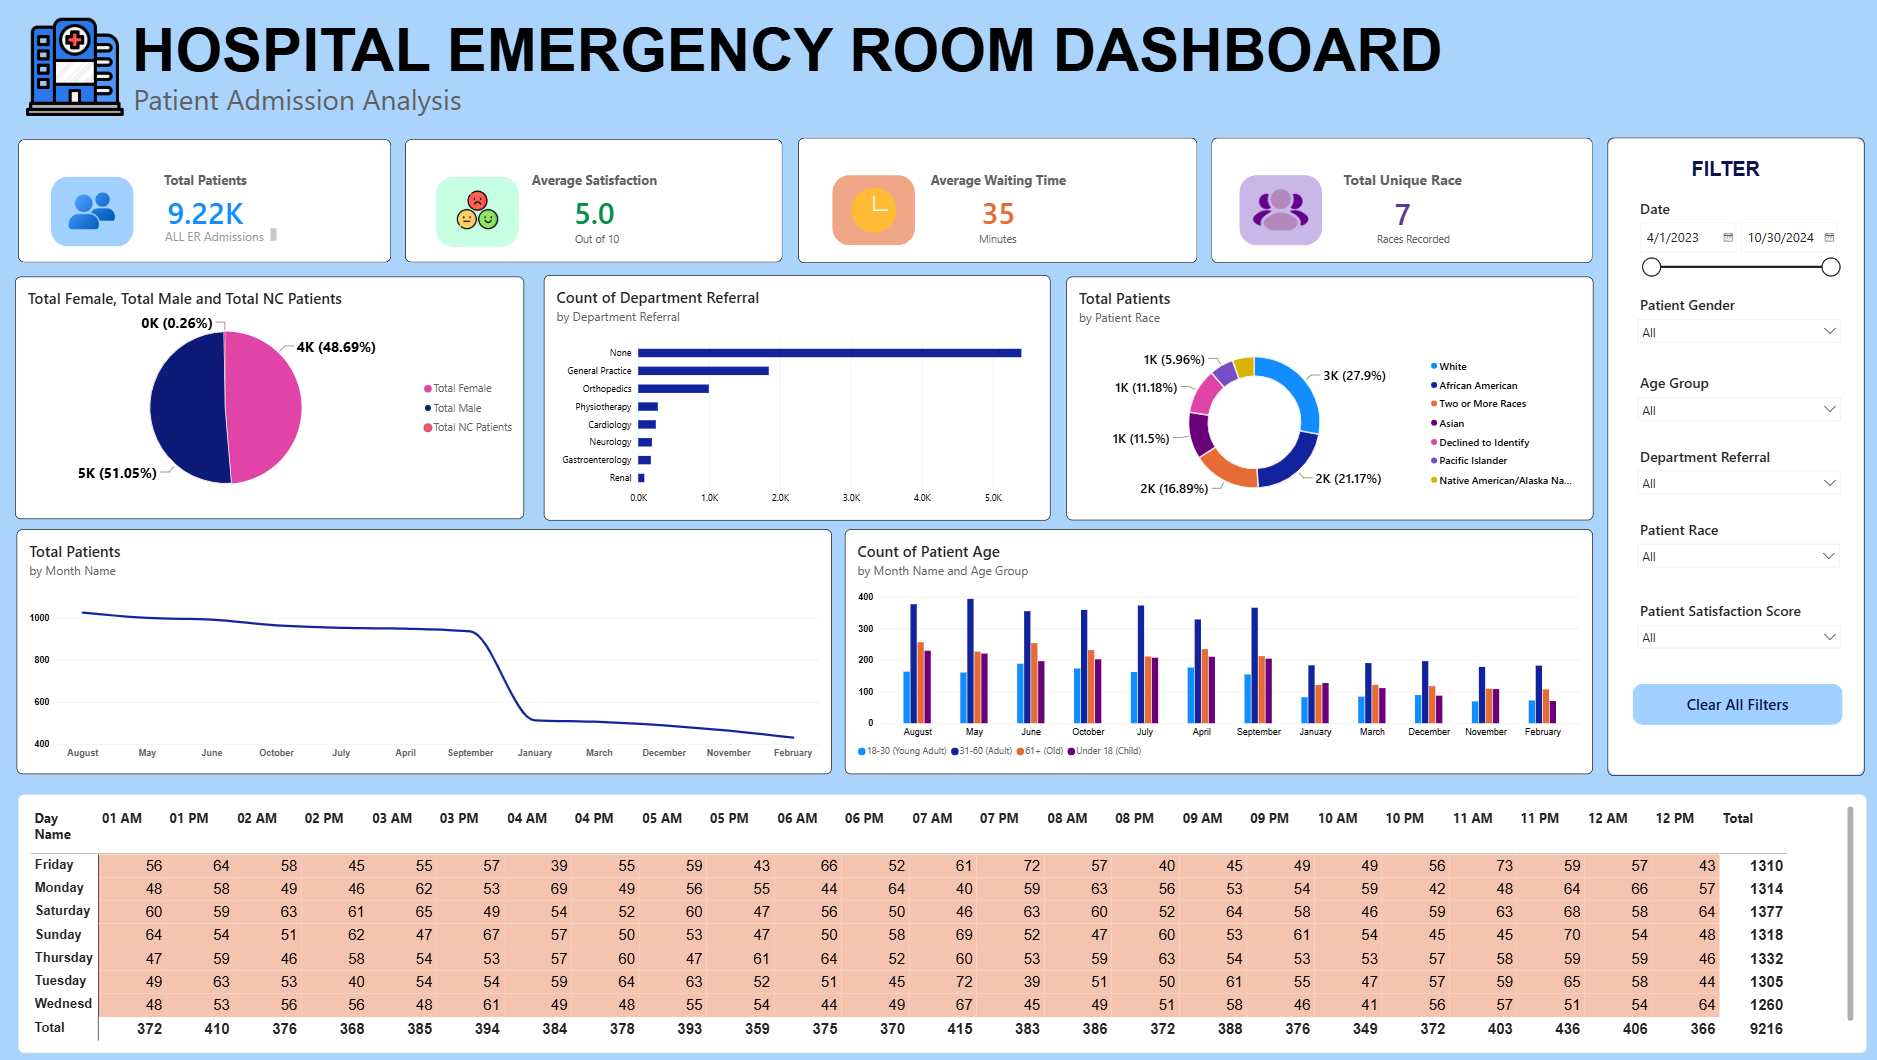

Layout of this report page (visuals, bound fields, positions):
{"tool":"powerbi","page":{"name":"Page 1","canvas":[2560,1440],"ordinal":0},"visuals":[{"type":"cardVisual","fields":{"Data":["Hospital ER Data.Average Waiting Time"]},"box":[1101.4,197.1,532.9,167.1],"z":0},{"type":"cardVisual","fields":{"Data":["dCalendar ER.Total Patients"]},"box":[61.4,198.6,497.1,164.3],"z":0,"group":"g1"},{"type":"group","id":"g1","title":"Group 1","box":[61.4,198.6,497.1,164.3],"z":0,"group":"g2"},{"type":"cardVisual","fields":{"Data":["Hospital ER Data.Average Satisfaction"]},"box":[578.6,198.6,503.5,164.6],"z":0,"group":"g3"},{"type":"cardVisual","fields":{"Data":["dCalendar ER.Total Patience Race"]},"box":[1652.9,197.1,508.6,167.1],"z":1000},{"type":"image","box":[117.4,262.6,83.3,61.7],"z":1000,"group":"g2"},{"type":"lineChart","fields":{"Category":["dCalendar ER.Month Name"],"Y":["dCalendar ER.Total Patients"]},"box":[60,720,1086.7,326.7],"z":2000},{"type":"barChart","fields":{"Category":["Hospital ER Data.Department Referral"],"Y":["CountNonNull(Hospital ER Data.Department Referral)"]},"box":[762.5,380,675,327.5],"z":3000},{"type":"clusteredColumnChart","fields":{"Category":["dCalendar ER.Month Name"],"Series":["Hospital ER Data.Age Group"],"Y":["CountNonNull(Hospital ER Data.Patient Age)"]},"box":[1165,720,996.7,326.7],"z":4000},{"type":"pieChart","fields":{"Y":["Hospital ER Data.Total Female","Hospital ER Data.Total Male","Hospital ER Data.Total NC Patients"]},"box":[58.3,383.3,678.3,323.3],"z":5000},{"type":"pivotTable","fields":{"Columns":["Hospital ER Data.Hour"],"Rows":["dCalendar ER.Day Name"],"Values":["dCalendar ER.Total Patients"]},"box":[61.7,1073.3,2463.3,345],"z":6000},{"type":"donutChart","fields":{"Category":["Hospital ER Data.Patient Race"],"Y":["dCalendar ER.Total Patients"]},"box":[1460,382.5,702.5,325],"z":7000},{"type":"group","id":"g2","title":"Group 2","box":[61.4,198.6,497.1,164.3],"z":8000},{"type":"group","id":"g3","title":"Group 3","box":[578.6,198.6,503.5,164.6],"z":9000,"group":"g4"},{"type":"shape","box":[621,247.6,110,93.3],"z":9000,"group":"g3"},{"type":"shape","box":[1146.7,248.3,110,93.3],"z":9000},{"type":"shape","box":[2180,197.5,342.5,850],"z":10000},{"type":"shape","box":[104,247.6,110,93],"z":10000,"group":"g1"},{"type":"textbox","box":[2180,225,315,52.5],"z":11000},{"type":"actionButton","box":[2213.3,925,280,55],"z":12000},{"type":"slicer","fields":{"Values":["Hospital ER Data.Age Group"]},"box":[2215,511.7,280,85],"z":13000},{"type":"slicer","fields":{"Values":["Hospital ER Data.Department Referral"]},"box":[2215,610,280,166.7],"z":14000},{"type":"slicer","fields":{"Values":["dCalendar ER.Date"]},"box":[2215.7,278.6,278.6,182.9],"z":15000},{"type":"slicer","fields":{"Values":["Hospital ER Data.Patient Gender"]},"box":[2215,407.5,280,165],"z":16000},{"type":"slicer","fields":{"Values":["Hospital ER Data.Patient Race"]},"box":[2216.7,706.7,278.3,165],"z":17000},{"type":"slicer","fields":{"Values":["Hospital ER Data.Patient Satisfaction Score"]},"box":[2215,815,280,165],"z":18000},{"type":"image","box":[639.3,264.3,73.3,55],"z":18001,"group":"g4"},{"type":"group","id":"g4","title":"Group 4","box":[578.6,198.6,503.5,164.6],"z":19000},{"type":"image","box":[1163.3,265,78.3,60],"z":20000},{"type":"shape","box":[1690,248.3,110,93.3],"z":21000},{"type":"image","box":[1706.7,256.7,76.7,75],"z":21001},{"type":"textbox","box":[258.8,318.8,148.8,18.8],"z":21002},{"type":"textbox","box":[805,322.5,67.5,18.8],"z":21003},{"type":"textbox","box":[1342.5,321.2,67.5,18.8],"z":21004},{"type":"textbox","box":[1873.8,321.2,113.8,18.8],"z":21005},{"type":"textbox","box":[215,35,1775,100],"z":21006},{"type":"image","box":[60,35,155,135],"z":21007},{"type":"textbox","box":[216.7,120,493.3,53.3],"z":21008}]}

Visuals, with their boxes in screenshot pixels (x1, y1, x2, y2), scaled from the page's 2560x1440 canvas onto the 1877x1060 screenshot:
cardVisual - Hospital ER Data.Average Waiting Time: {"left": 808, "top": 145, "right": 1198, "bottom": 268}
cardVisual - dCalendar ER.Total Patients: {"left": 45, "top": 146, "right": 409, "bottom": 267}
"Group 1" group: {"left": 45, "top": 146, "right": 409, "bottom": 267}
cardVisual - Hospital ER Data.Average Satisfaction: {"left": 424, "top": 146, "right": 793, "bottom": 267}
cardVisual - dCalendar ER.Total Patience Race: {"left": 1212, "top": 145, "right": 1585, "bottom": 268}
image: {"left": 86, "top": 193, "right": 147, "bottom": 239}
lineChart - dCalendar ER.Month Name x dCalendar ER.Total Patients: {"left": 44, "top": 530, "right": 841, "bottom": 770}
barChart - Hospital ER Data.Department Referral x CountNonNull(Hospital ER Data.Department Referral): {"left": 559, "top": 280, "right": 1054, "bottom": 521}
clusteredColumnChart - dCalendar ER.Month Name x Hospital ER Data.Age Group: {"left": 854, "top": 530, "right": 1585, "bottom": 770}
pieChart - Hospital ER Data.Total Female x Hospital ER Data.Total Male: {"left": 43, "top": 282, "right": 540, "bottom": 520}
pivotTable - Hospital ER Data.Hour x dCalendar ER.Day Name: {"left": 45, "top": 790, "right": 1851, "bottom": 1044}
donutChart - Hospital ER Data.Patient Race x dCalendar ER.Total Patients: {"left": 1070, "top": 282, "right": 1586, "bottom": 521}
"Group 2" group: {"left": 45, "top": 146, "right": 409, "bottom": 267}
"Group 3" group: {"left": 424, "top": 146, "right": 793, "bottom": 267}
shape: {"left": 455, "top": 182, "right": 536, "bottom": 251}
shape: {"left": 841, "top": 183, "right": 921, "bottom": 251}
shape: {"left": 1598, "top": 145, "right": 1850, "bottom": 771}
shape: {"left": 76, "top": 182, "right": 157, "bottom": 251}
textbox: {"left": 1598, "top": 166, "right": 1829, "bottom": 204}
actionButton: {"left": 1623, "top": 681, "right": 1828, "bottom": 721}
slicer - Hospital ER Data.Age Group: {"left": 1624, "top": 377, "right": 1829, "bottom": 439}
slicer - Hospital ER Data.Department Referral: {"left": 1624, "top": 449, "right": 1829, "bottom": 572}
slicer - dCalendar ER.Date: {"left": 1625, "top": 205, "right": 1829, "bottom": 340}
slicer - Hospital ER Data.Patient Gender: {"left": 1624, "top": 300, "right": 1829, "bottom": 421}
slicer - Hospital ER Data.Patient Race: {"left": 1625, "top": 520, "right": 1829, "bottom": 642}
slicer - Hospital ER Data.Patient Satisfaction Score: {"left": 1624, "top": 600, "right": 1829, "bottom": 721}
image: {"left": 469, "top": 195, "right": 522, "bottom": 235}
"Group 4" group: {"left": 424, "top": 146, "right": 793, "bottom": 267}
image: {"left": 853, "top": 195, "right": 910, "bottom": 239}
shape: {"left": 1239, "top": 183, "right": 1320, "bottom": 251}
image: {"left": 1251, "top": 189, "right": 1308, "bottom": 244}
textbox: {"left": 190, "top": 235, "right": 299, "bottom": 249}
textbox: {"left": 590, "top": 237, "right": 640, "bottom": 251}
textbox: {"left": 984, "top": 236, "right": 1034, "bottom": 250}
textbox: {"left": 1374, "top": 236, "right": 1457, "bottom": 250}
textbox: {"left": 158, "top": 26, "right": 1459, "bottom": 99}
image: {"left": 44, "top": 26, "right": 158, "bottom": 125}
textbox: {"left": 159, "top": 88, "right": 521, "bottom": 128}
